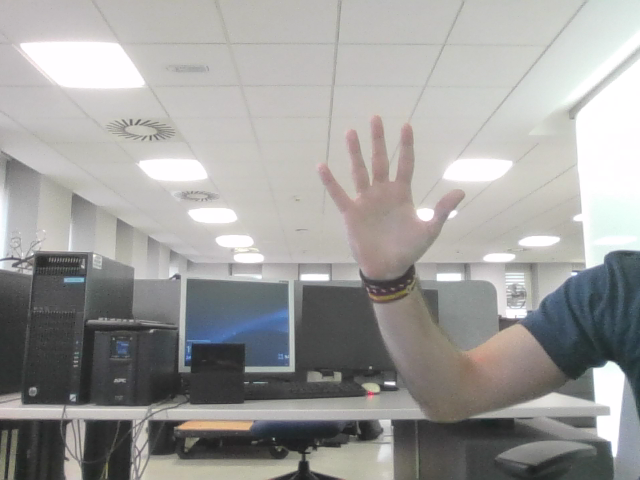Mano Abierta: (327, 128, 449, 245)
